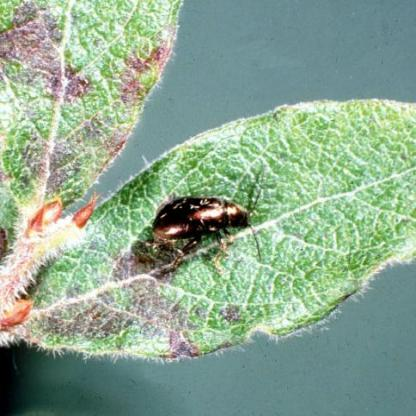beetle: (147, 178, 276, 271)
